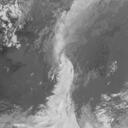cyclone: (37, 27, 76, 107)
